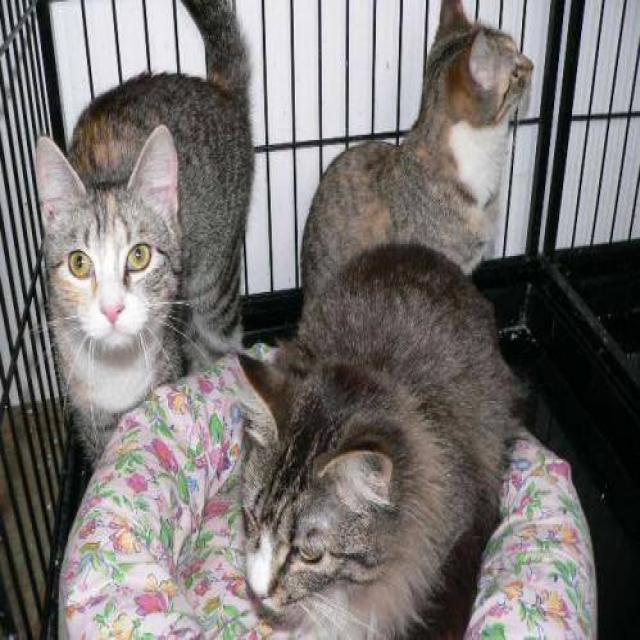cat: (235, 0, 535, 638), (32, 0, 257, 471)
